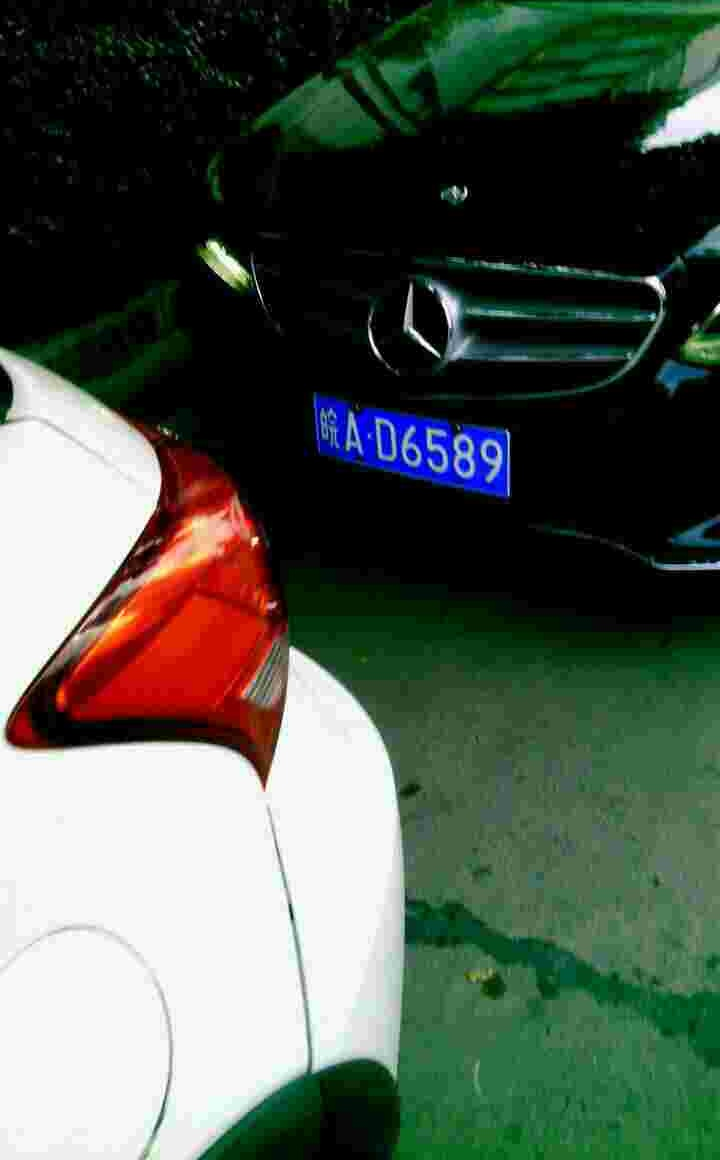license_plate: (298, 387, 518, 494)
